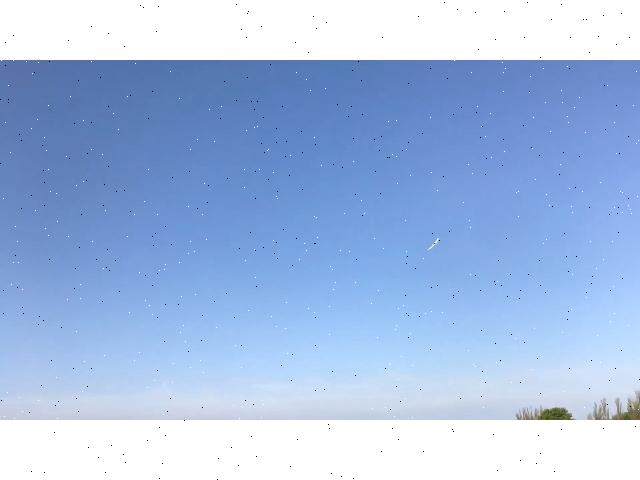Anti-Drone: (412, 235, 452, 260)
